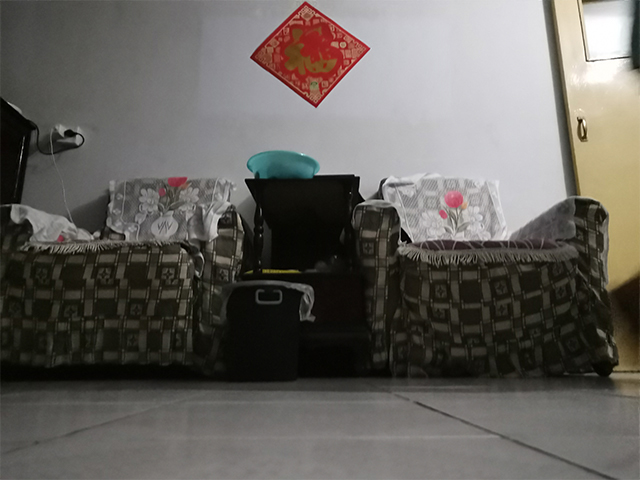cabinet: (240, 171, 370, 377)
sofa: (348, 174, 622, 379), (1, 173, 249, 380)
trashcan: (216, 278, 318, 384)
